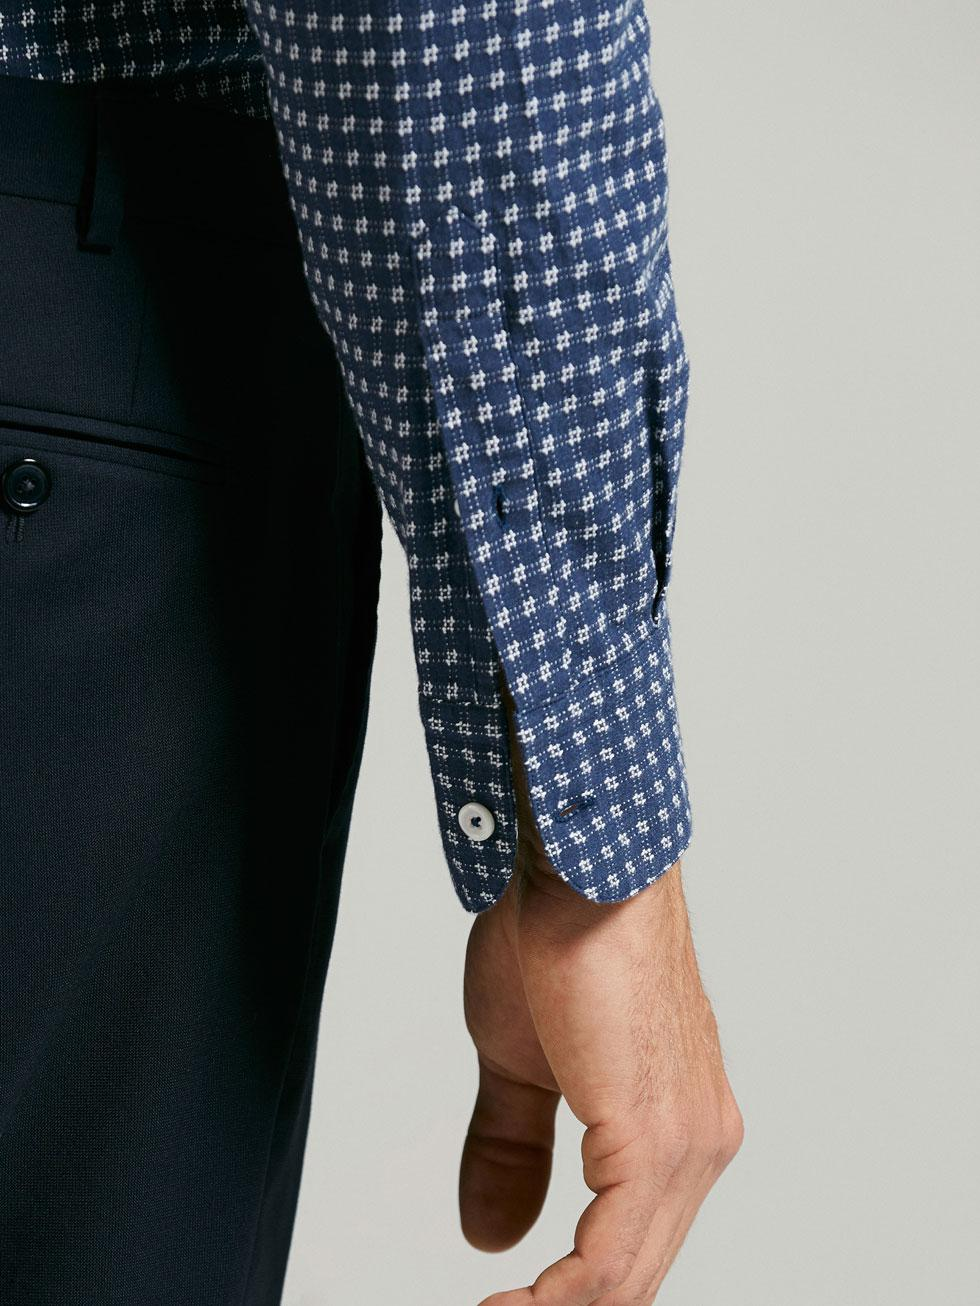teeshirt: (4, 1, 715, 885)
